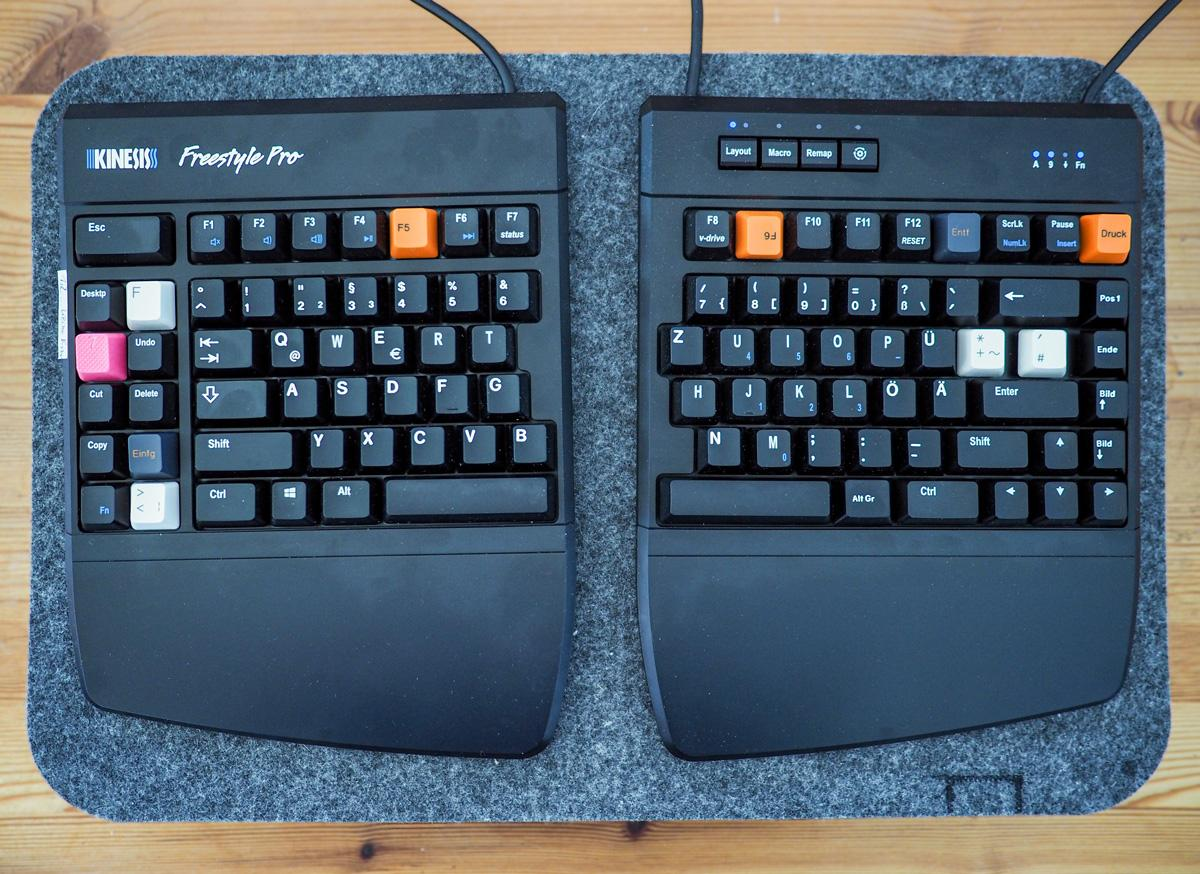0: (842, 273, 879, 315)
1: (238, 275, 274, 317)
2: (288, 273, 326, 316)
3: (338, 273, 377, 315)
4: (388, 270, 426, 313)
5: (443, 271, 481, 314)
6: (491, 268, 530, 311)
7: (688, 271, 728, 315)
8: (742, 272, 780, 315)
9: (791, 272, 829, 316)
a: (279, 374, 316, 416)
accent: (942, 274, 981, 316)
ae: (929, 375, 965, 417)
alt-left: (318, 474, 370, 517)
altgr-right: (840, 474, 889, 516)
b: (511, 421, 549, 464)
c: (405, 422, 443, 464)
caret: (186, 275, 223, 316)
comma: (802, 424, 840, 467)
d: (379, 371, 416, 414)
del: (995, 274, 1079, 315)
e: (367, 321, 404, 365)
enter: (978, 376, 1078, 417)
f: (431, 371, 467, 413)
g: (481, 369, 520, 412)
h: (679, 377, 717, 419)
hash: (1015, 325, 1067, 374)
i: (767, 323, 804, 364)
j: (729, 375, 768, 417)
k: (781, 377, 818, 419)
keyboard: (74, 192, 557, 556), (654, 202, 1130, 543)
l: (829, 373, 866, 415)
m: (754, 424, 793, 465)
minus: (903, 425, 940, 466)
n: (704, 423, 741, 464)
o: (817, 323, 854, 364)
oe: (878, 374, 915, 417)
p: (868, 324, 904, 365)
plus: (956, 324, 1004, 371)
point: (854, 424, 890, 465)
q: (266, 324, 304, 367)
r: (418, 321, 456, 362)
s: (329, 373, 366, 415)
shift-left: (191, 426, 292, 470)
shift-lock: (191, 375, 266, 418)
shift-right: (952, 425, 1027, 466)
space: (383, 472, 548, 515), (668, 475, 829, 516)
ss: (891, 273, 928, 316)
strg-left: (192, 478, 258, 521)
strg-right: (902, 476, 979, 517)
t: (469, 320, 507, 361)
tab: (190, 325, 251, 367)
u: (717, 323, 754, 365)
ue: (916, 324, 953, 367)
v: (459, 421, 496, 462)
w: (315, 323, 354, 365)
x: (356, 423, 393, 465)
y: (306, 425, 343, 467)
z: (665, 321, 702, 364)
